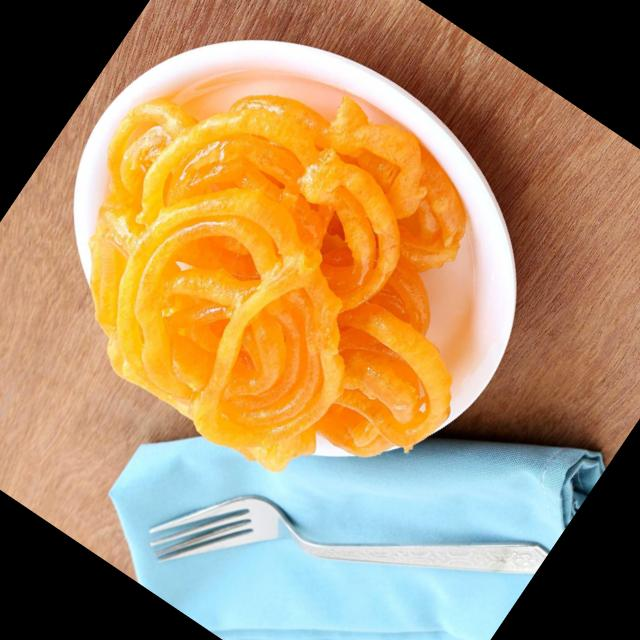jalebi: (0, 14, 551, 547)
